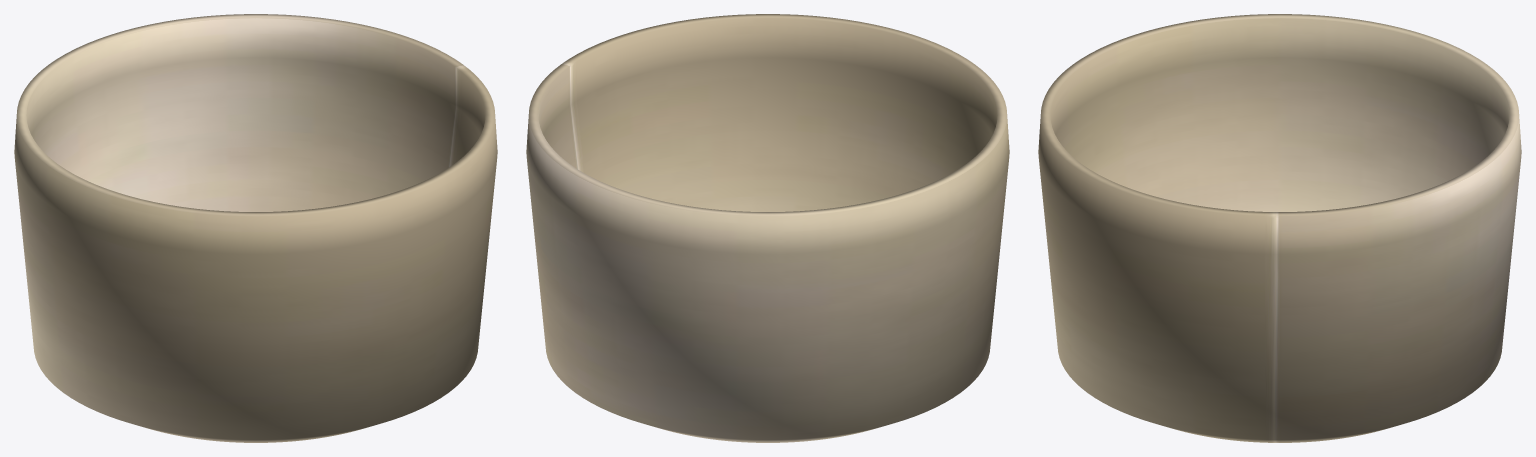
Rendered from pantry_contents__matcha_bowl.glb.
3 renders of one model, left to right at view 1: azimuth 30°, elevation 25°; view 2: azimuth 150°, elevation 25°; view 3: azimuth 270°, elevation 25°, orthographic.
Visible parts, largest first — view 1: matcha_bowl__body; view 2: matcha_bowl__body; view 3: matcha_bowl__body.
Boxes of the visible parts, x1,y1,x2,y2 form: matcha_bowl__body: [14, 14, 497, 442]; matcha_bowl__body: [526, 14, 1009, 442]; matcha_bowl__body: [1038, 14, 1521, 442].
Bounding box in the file's own units: 0.12 × 0.068 × 0.12.
1 material, 1 textured.
